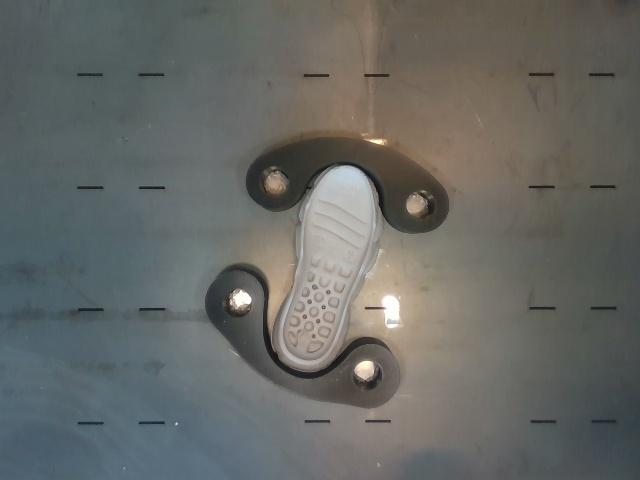shoes: (283, 166, 374, 360)
